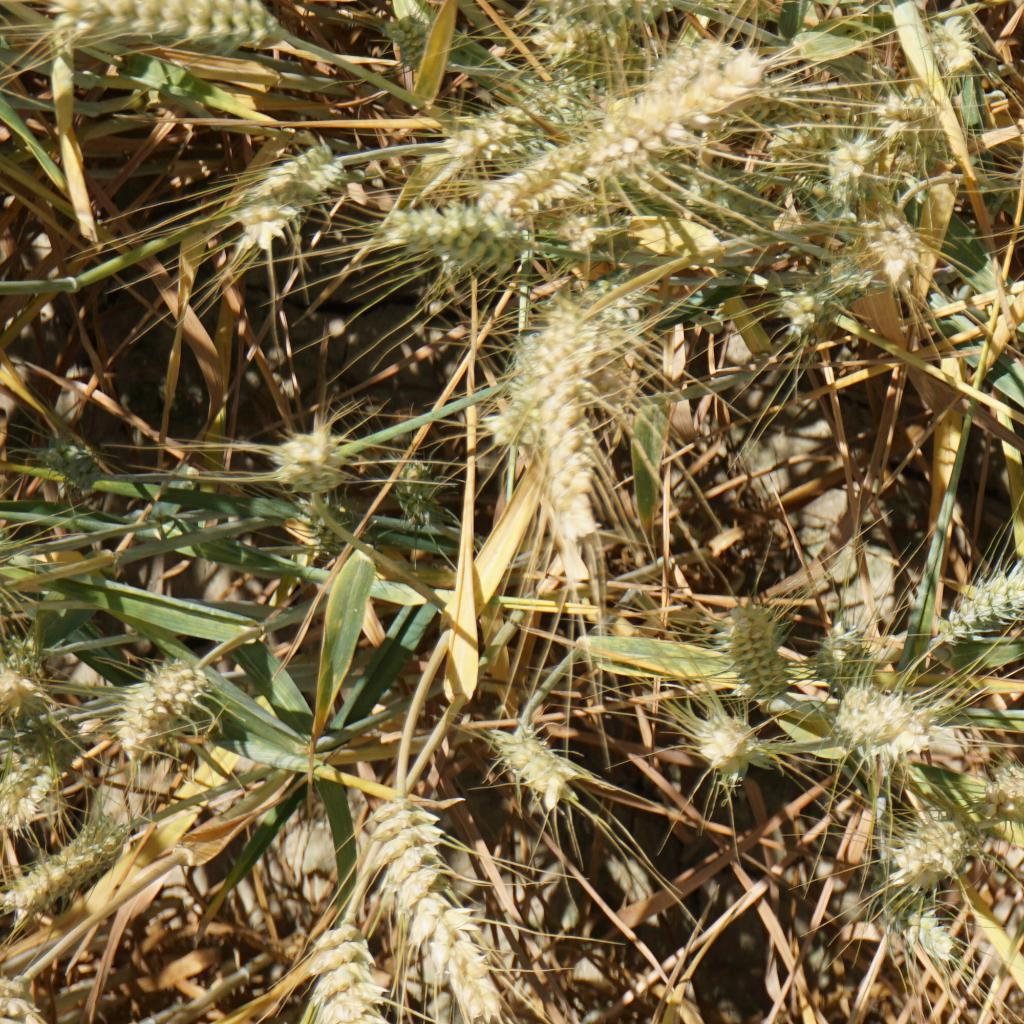0-0: (360, 786, 515, 1024), (37, 0, 307, 64), (460, 126, 673, 200), (224, 141, 342, 259), (630, 45, 774, 137), (531, 370, 608, 539), (425, 63, 573, 150), (10, 815, 134, 918), (114, 652, 217, 770), (367, 197, 526, 272), (292, 909, 390, 1024), (923, 546, 1024, 653), (258, 408, 363, 509), (663, 157, 781, 242), (709, 591, 794, 706), (492, 718, 587, 813), (832, 692, 940, 769), (285, 484, 391, 562), (761, 110, 869, 184), (882, 808, 975, 892), (858, 197, 937, 292), (865, 883, 953, 968), (489, 329, 567, 424), (677, 709, 766, 792), (537, 0, 681, 49), (23, 429, 117, 495), (878, 97, 962, 169), (384, 454, 454, 537), (0, 758, 72, 837), (921, 8, 985, 94), (0, 649, 60, 737), (805, 609, 876, 681), (581, 275, 646, 352), (803, 251, 877, 317), (804, 138, 876, 201), (769, 275, 831, 337), (384, 6, 441, 71), (972, 758, 1024, 829), (534, 206, 605, 257)
